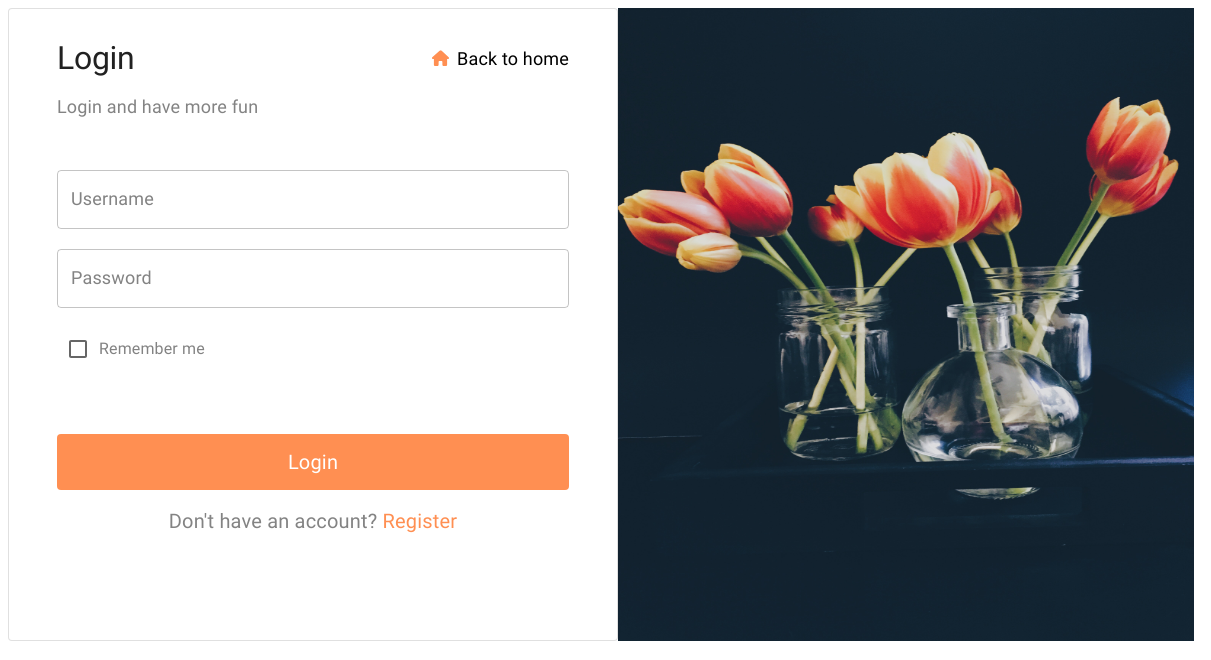
Test: <LoginComponent> › should display error message if username and password are incorrect
Type "test Username" into the field with placeholder "Username" at (313, 200), box [57, 170, 569, 229]
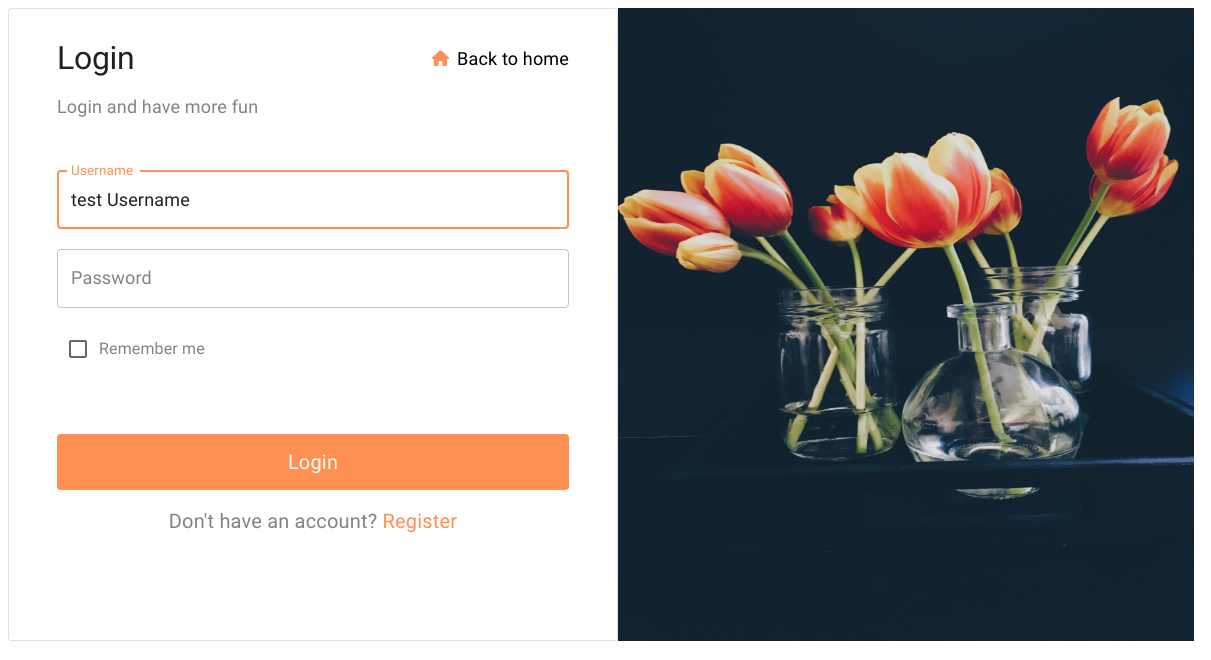
Type "654321" into the password field with placeholder "Password" at (313, 279), box [57, 249, 569, 308]
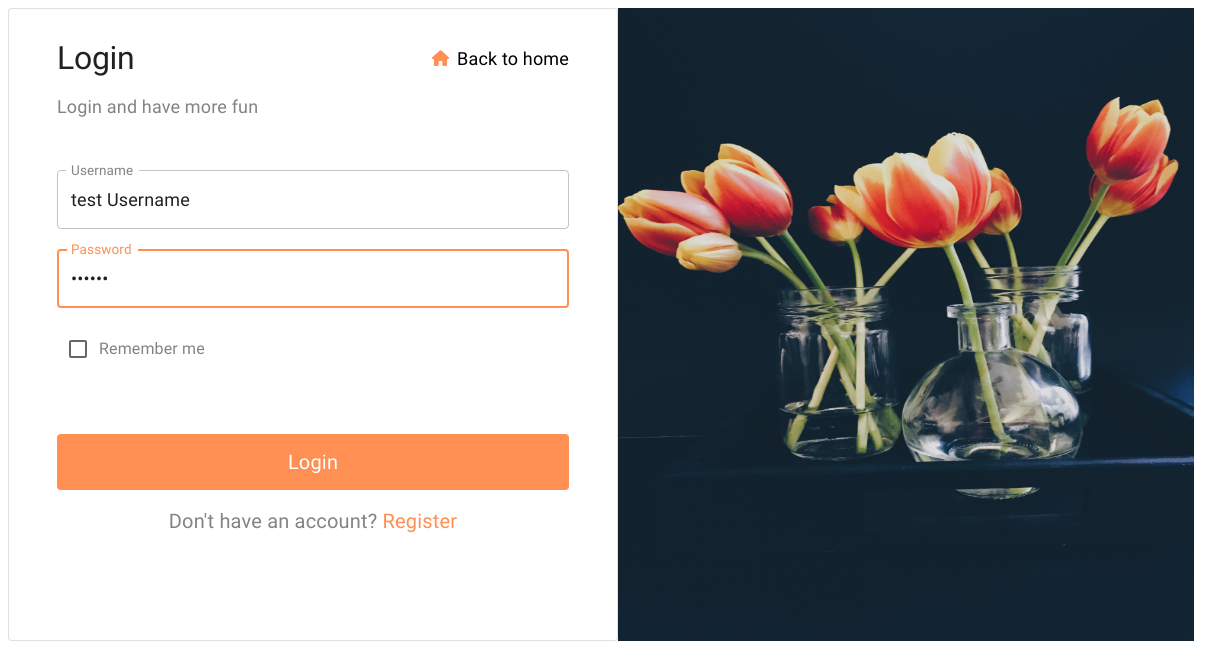
Click the button "Login" at (313, 462), box [57, 434, 569, 490]
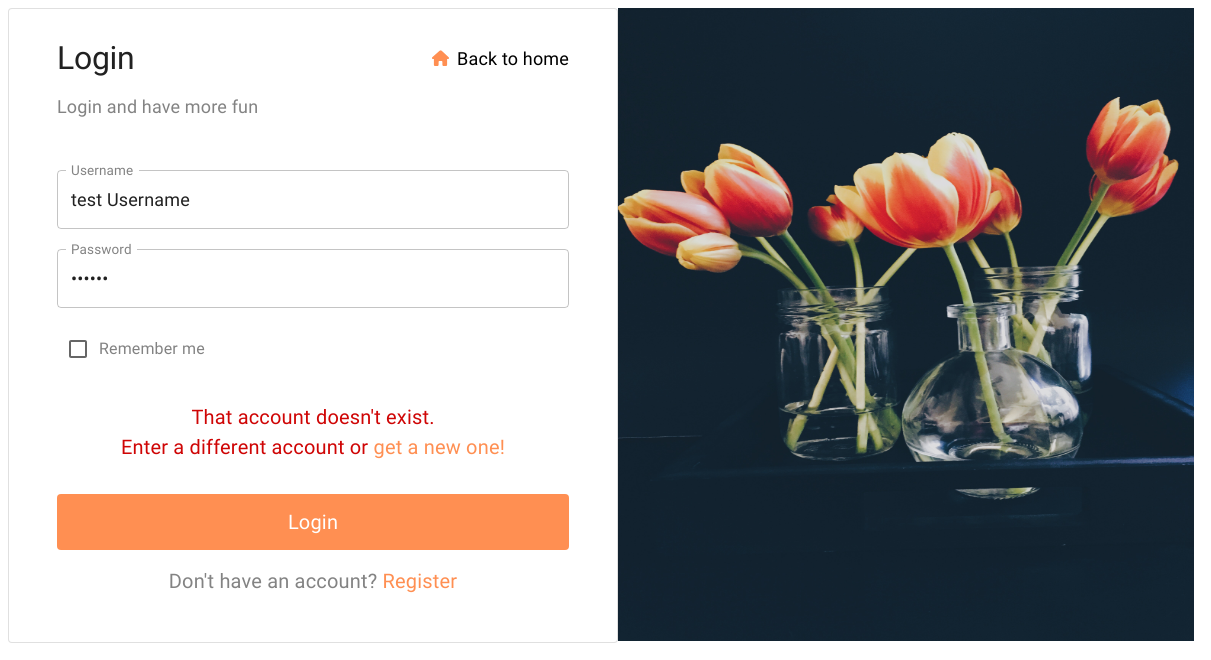
Expected: the text "That account doesn't exist." is shown, [191, 405, 435, 429]
